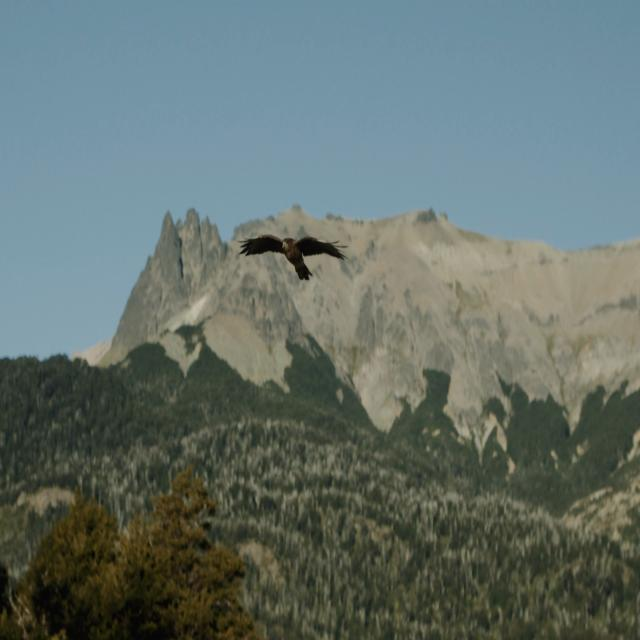bird: (236, 218, 355, 290)
